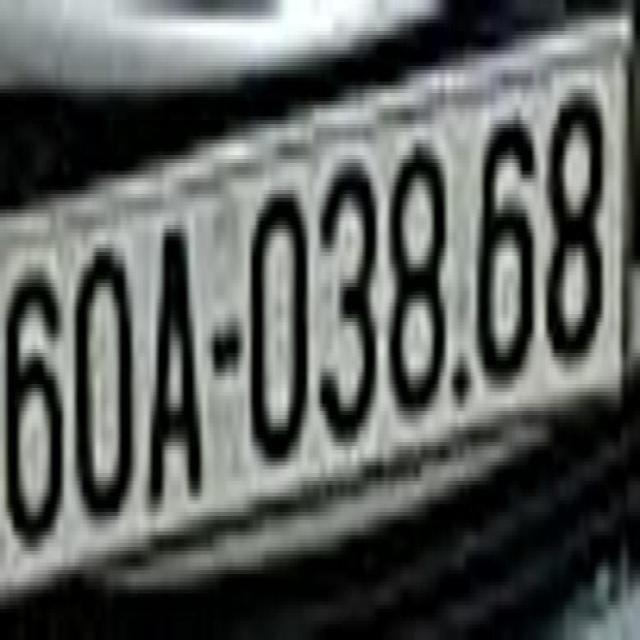0: (68, 217, 136, 524), (244, 174, 312, 473)
3: (316, 151, 379, 458)
6: (4, 240, 65, 562), (474, 109, 538, 372)
8: (384, 109, 448, 438), (544, 70, 606, 376)
A: (138, 206, 206, 508)
